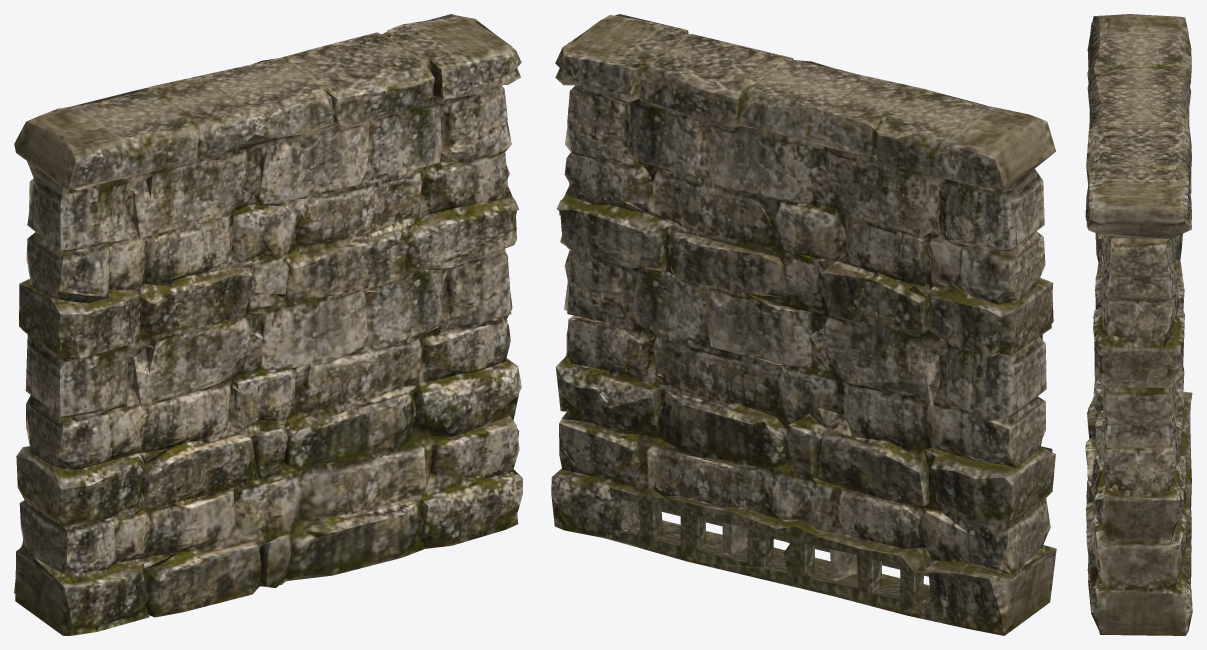
File: wall_tall.glb
The picture shows the model from 3 angles, left to right: view 1: azimuth 30°, elevation 25°; view 2: azimuth 150°, elevation 25°; view 3: azimuth 270°, elevation 25°; orthographic projection. The views are drawn at different scales.
Parts seen in each view (by area): view 1: wall_tall; view 2: wall_tall; view 3: wall_tall.
Part boxes in pixels (left/top/right/bottom): wall_tall: left=14, top=14, right=522, bottom=635; wall_tall: left=551, top=14, right=1056, bottom=635; wall_tall: left=1085, top=14, right=1192, bottom=635.
Size of the model in its own units: 1.9 by 1.9 by 0.4279.
Materials: 1 (1 with a texture image).
